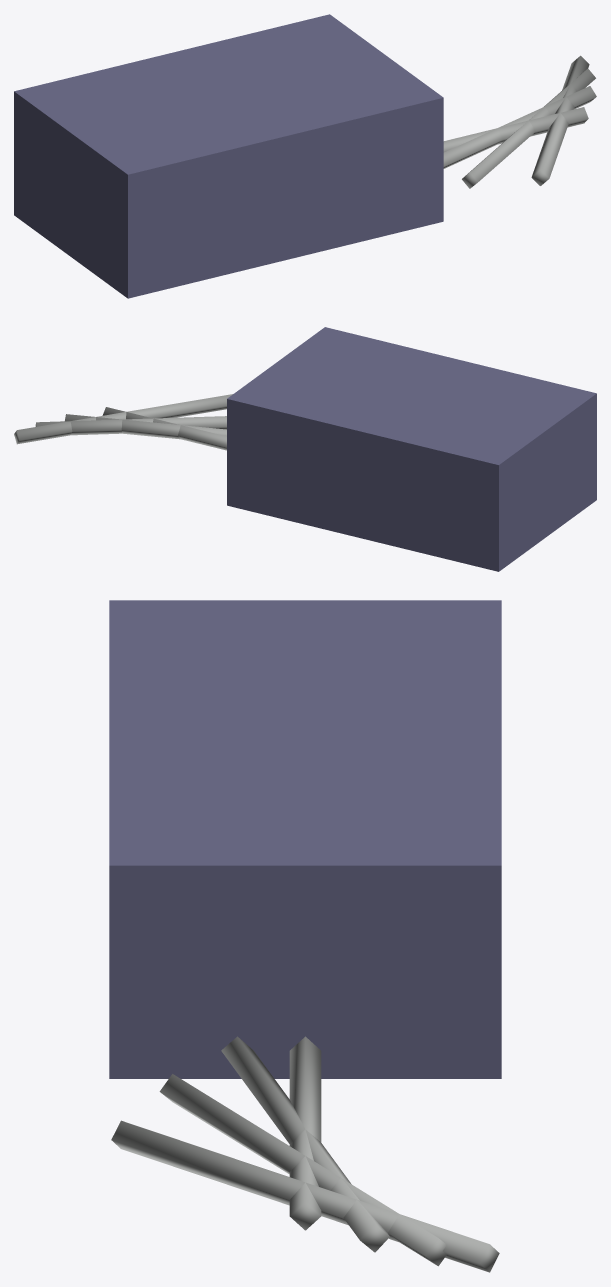
Rendered from nails.glb.
The picture shows the model from 3 angles, top to bottom: view 1: azimuth 30°, elevation 25°; view 2: azimuth 150°, elevation 25°; view 3: azimuth 270°, elevation 25°; orthographic projection. The views are drawn at different scales.
Parts seen in each view (by area): view 1: Item; view 2: Item; view 3: Item.
Boxes of the visible parts, <box> form: Item: <box>14,14,596,298</box>; Item: <box>14,327,596,571</box>; Item: <box>109,600,501,1272</box>.
Size of the model in its own units: 0.1442 by 0.03 by 0.05.
